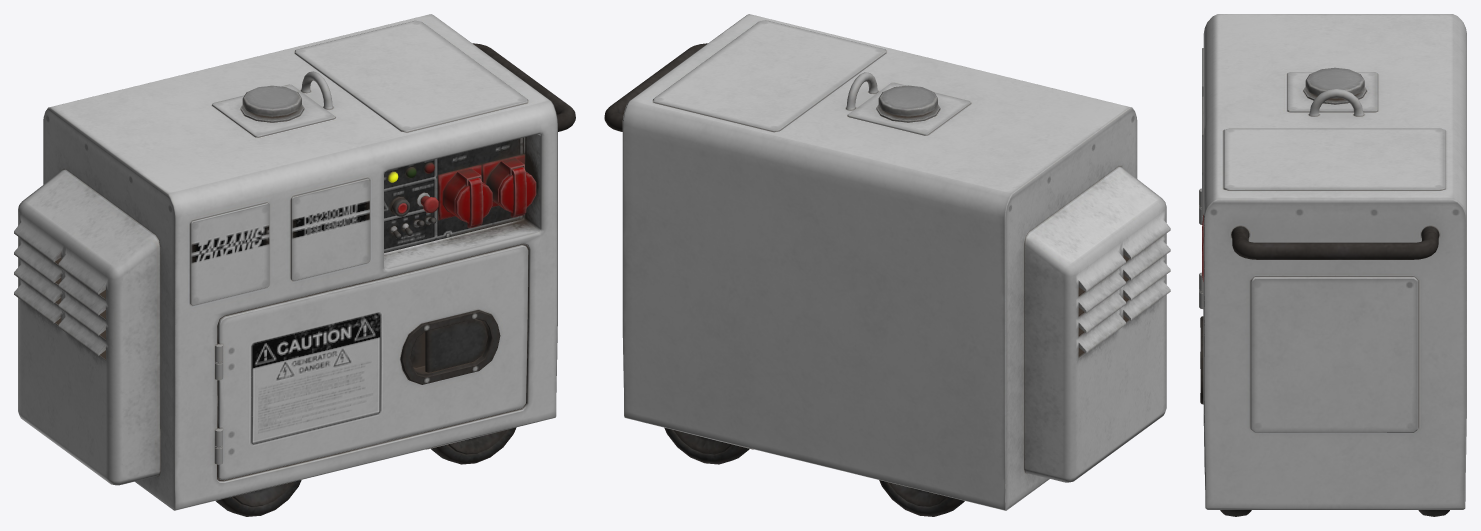
File: diesel_generator.glb
3 views of the same model, side by side, from view 1: azimuth 30°, elevation 25°; view 2: azimuth 150°, elevation 25°; view 3: azimuth 270°, elevation 25° (orthographic).
Parts seen in each view (by area): view 1: polySurface52; view 2: polySurface52; view 3: polySurface52.
Boxes of the visible parts, x1,y1,x2,y2 form: polySurface52: [14, 14, 575, 516]; polySurface52: [604, 14, 1170, 516]; polySurface52: [1199, 14, 1466, 516].
Size of the model in its own units: 1.41 by 1.06 by 0.6889.
Materials: 1 (1 with a texture image).
